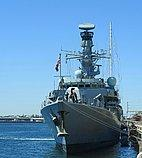MIL_Ship: (38, 20, 125, 149)
